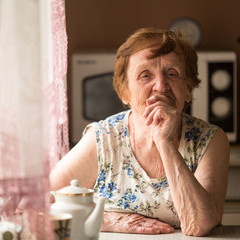young: (119, 29, 197, 127)
